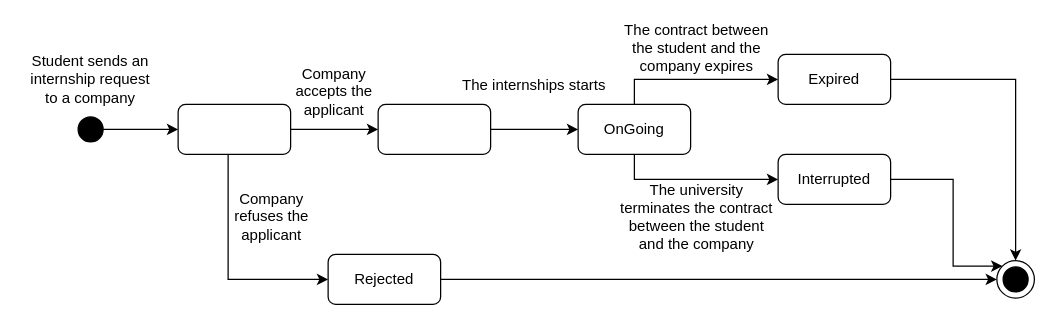
Image size: 1056x326. Some labels were removed from this diagram. The centre of each missing label's shape, as x and y in pixels:
Accepted: the point at 434,128
Pending: the point at 234,128
